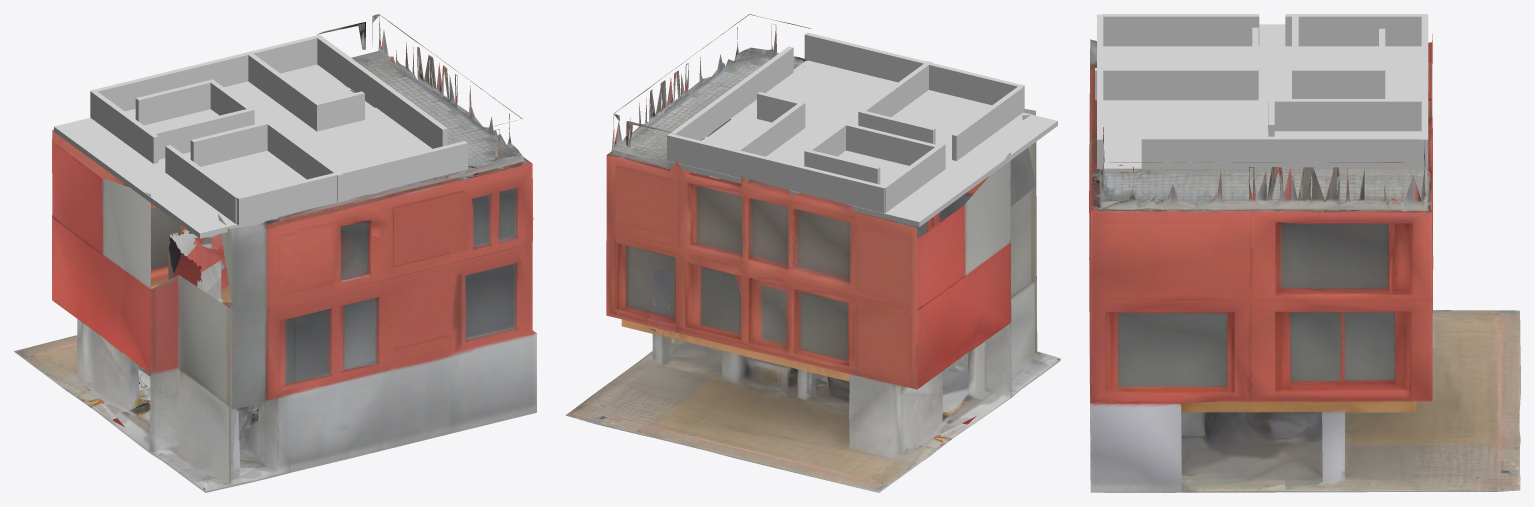
The model's file is bldg_section.glb.
3 renders of one model, left to right at view 1: azimuth 30°, elevation 25°; view 2: azimuth 150°, elevation 25°; view 3: azimuth 270°, elevation 25°, orthographic. The views are drawn at different scales.
Visible parts, largest first — view 1: Mesh_0.003, Cube.016; view 2: Mesh_0.003, Cube.016; view 3: Mesh_0.003, Cube.016.
Boxes of the visible parts, x1=… form: Mesh_0.003: x1=14, y1=14, x2=536, y2=492; Cube.016: x1=54, y1=34, x2=467, y2=238; Mesh_0.003: x1=565, y1=14, x2=1060, y2=492; Cube.016: x1=667, y1=32, x2=1057, y2=226; Mesh_0.003: x1=1089, y1=34, x2=1520, y2=492; Cube.016: x1=1095, y1=14, x2=1428, y2=174.
Size of the model in its own units: 13.19 by 11.06 by 13.23.
Materials: 1 (1 with a texture image).
